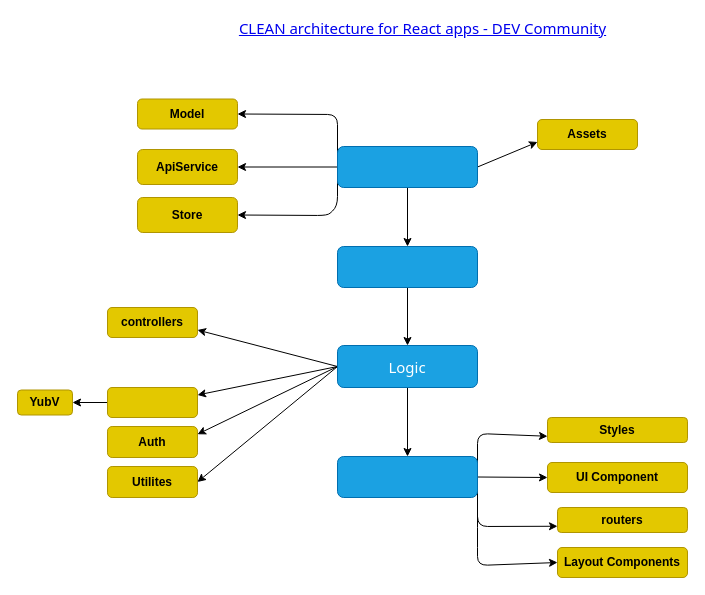
Some shapes in this 705 by 595 pixel diagram are drawn without their labels. Each missing label, with the box of its shape:
Infrastructure: (336, 146, 478, 188)
Repository: (336, 246, 478, 288)
validations: (106, 386, 198, 418)
View: (336, 456, 478, 498)
